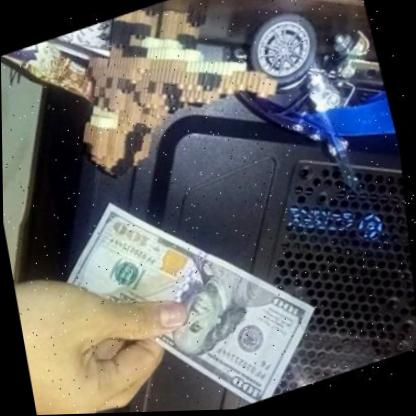one_hundred-front: (33, 138, 352, 415)
